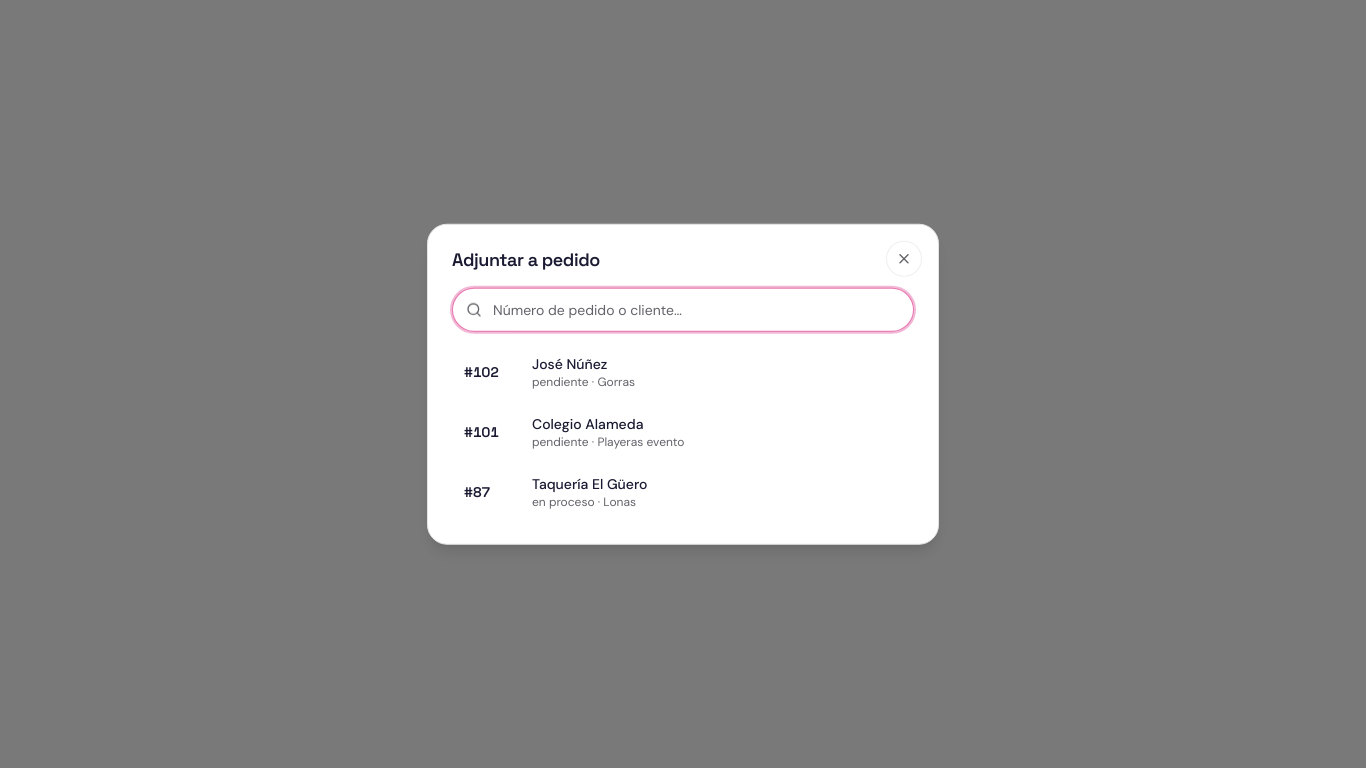
Test: AttachToOrderDialog › otros errores muestran el mensaje del servidor
The width and height of the screenshot is (1366, 768).
Click the button "#102 José Núñez pendiente · Gorras" at [570, 363], box [452,343,914,399]
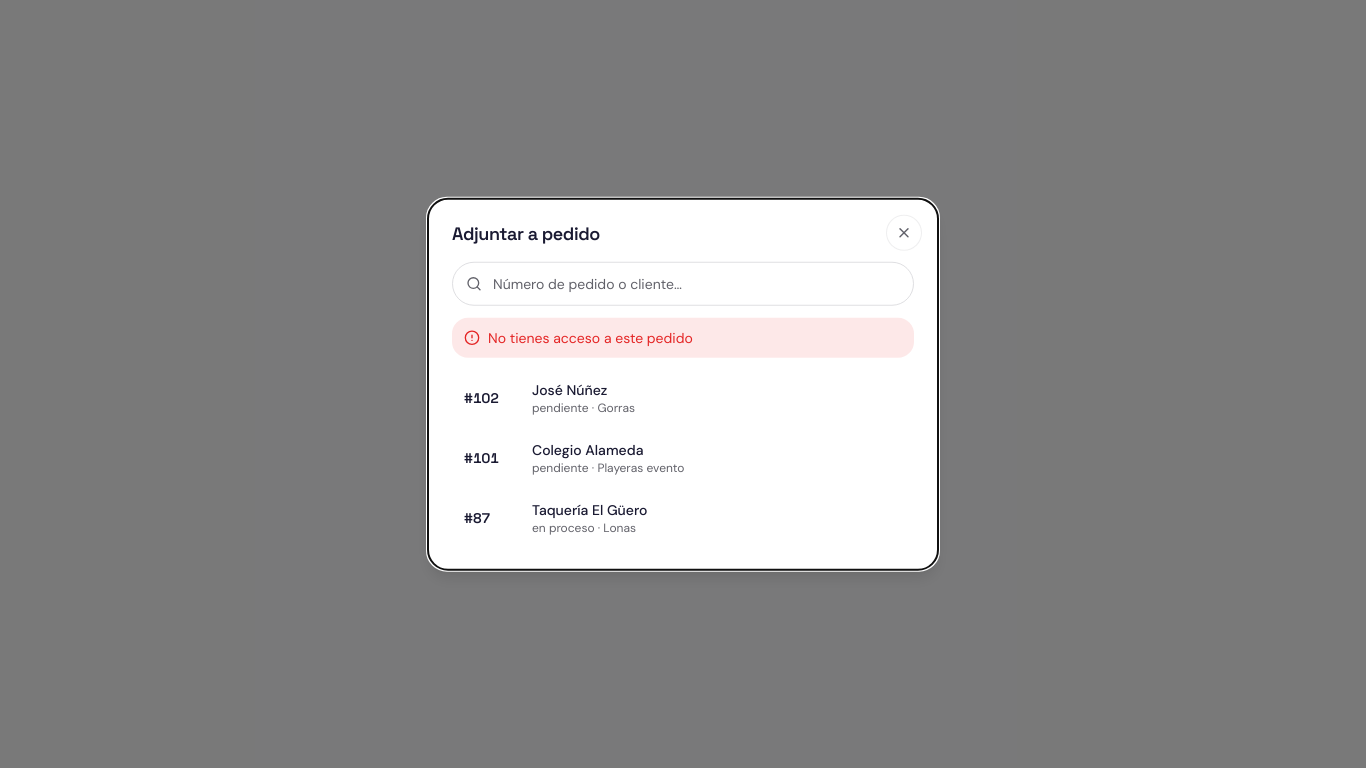
Now the message reads "No tienes acceso a este pedido", box [488,328,693,346]
